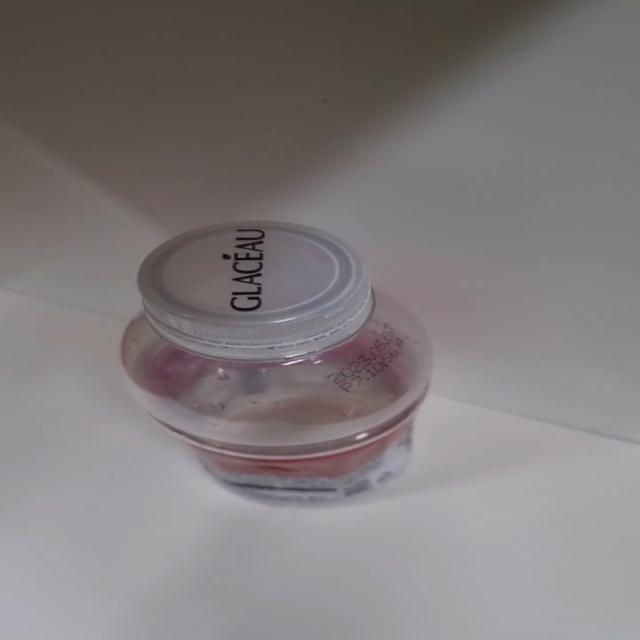Plastic: (118, 220, 436, 507)
